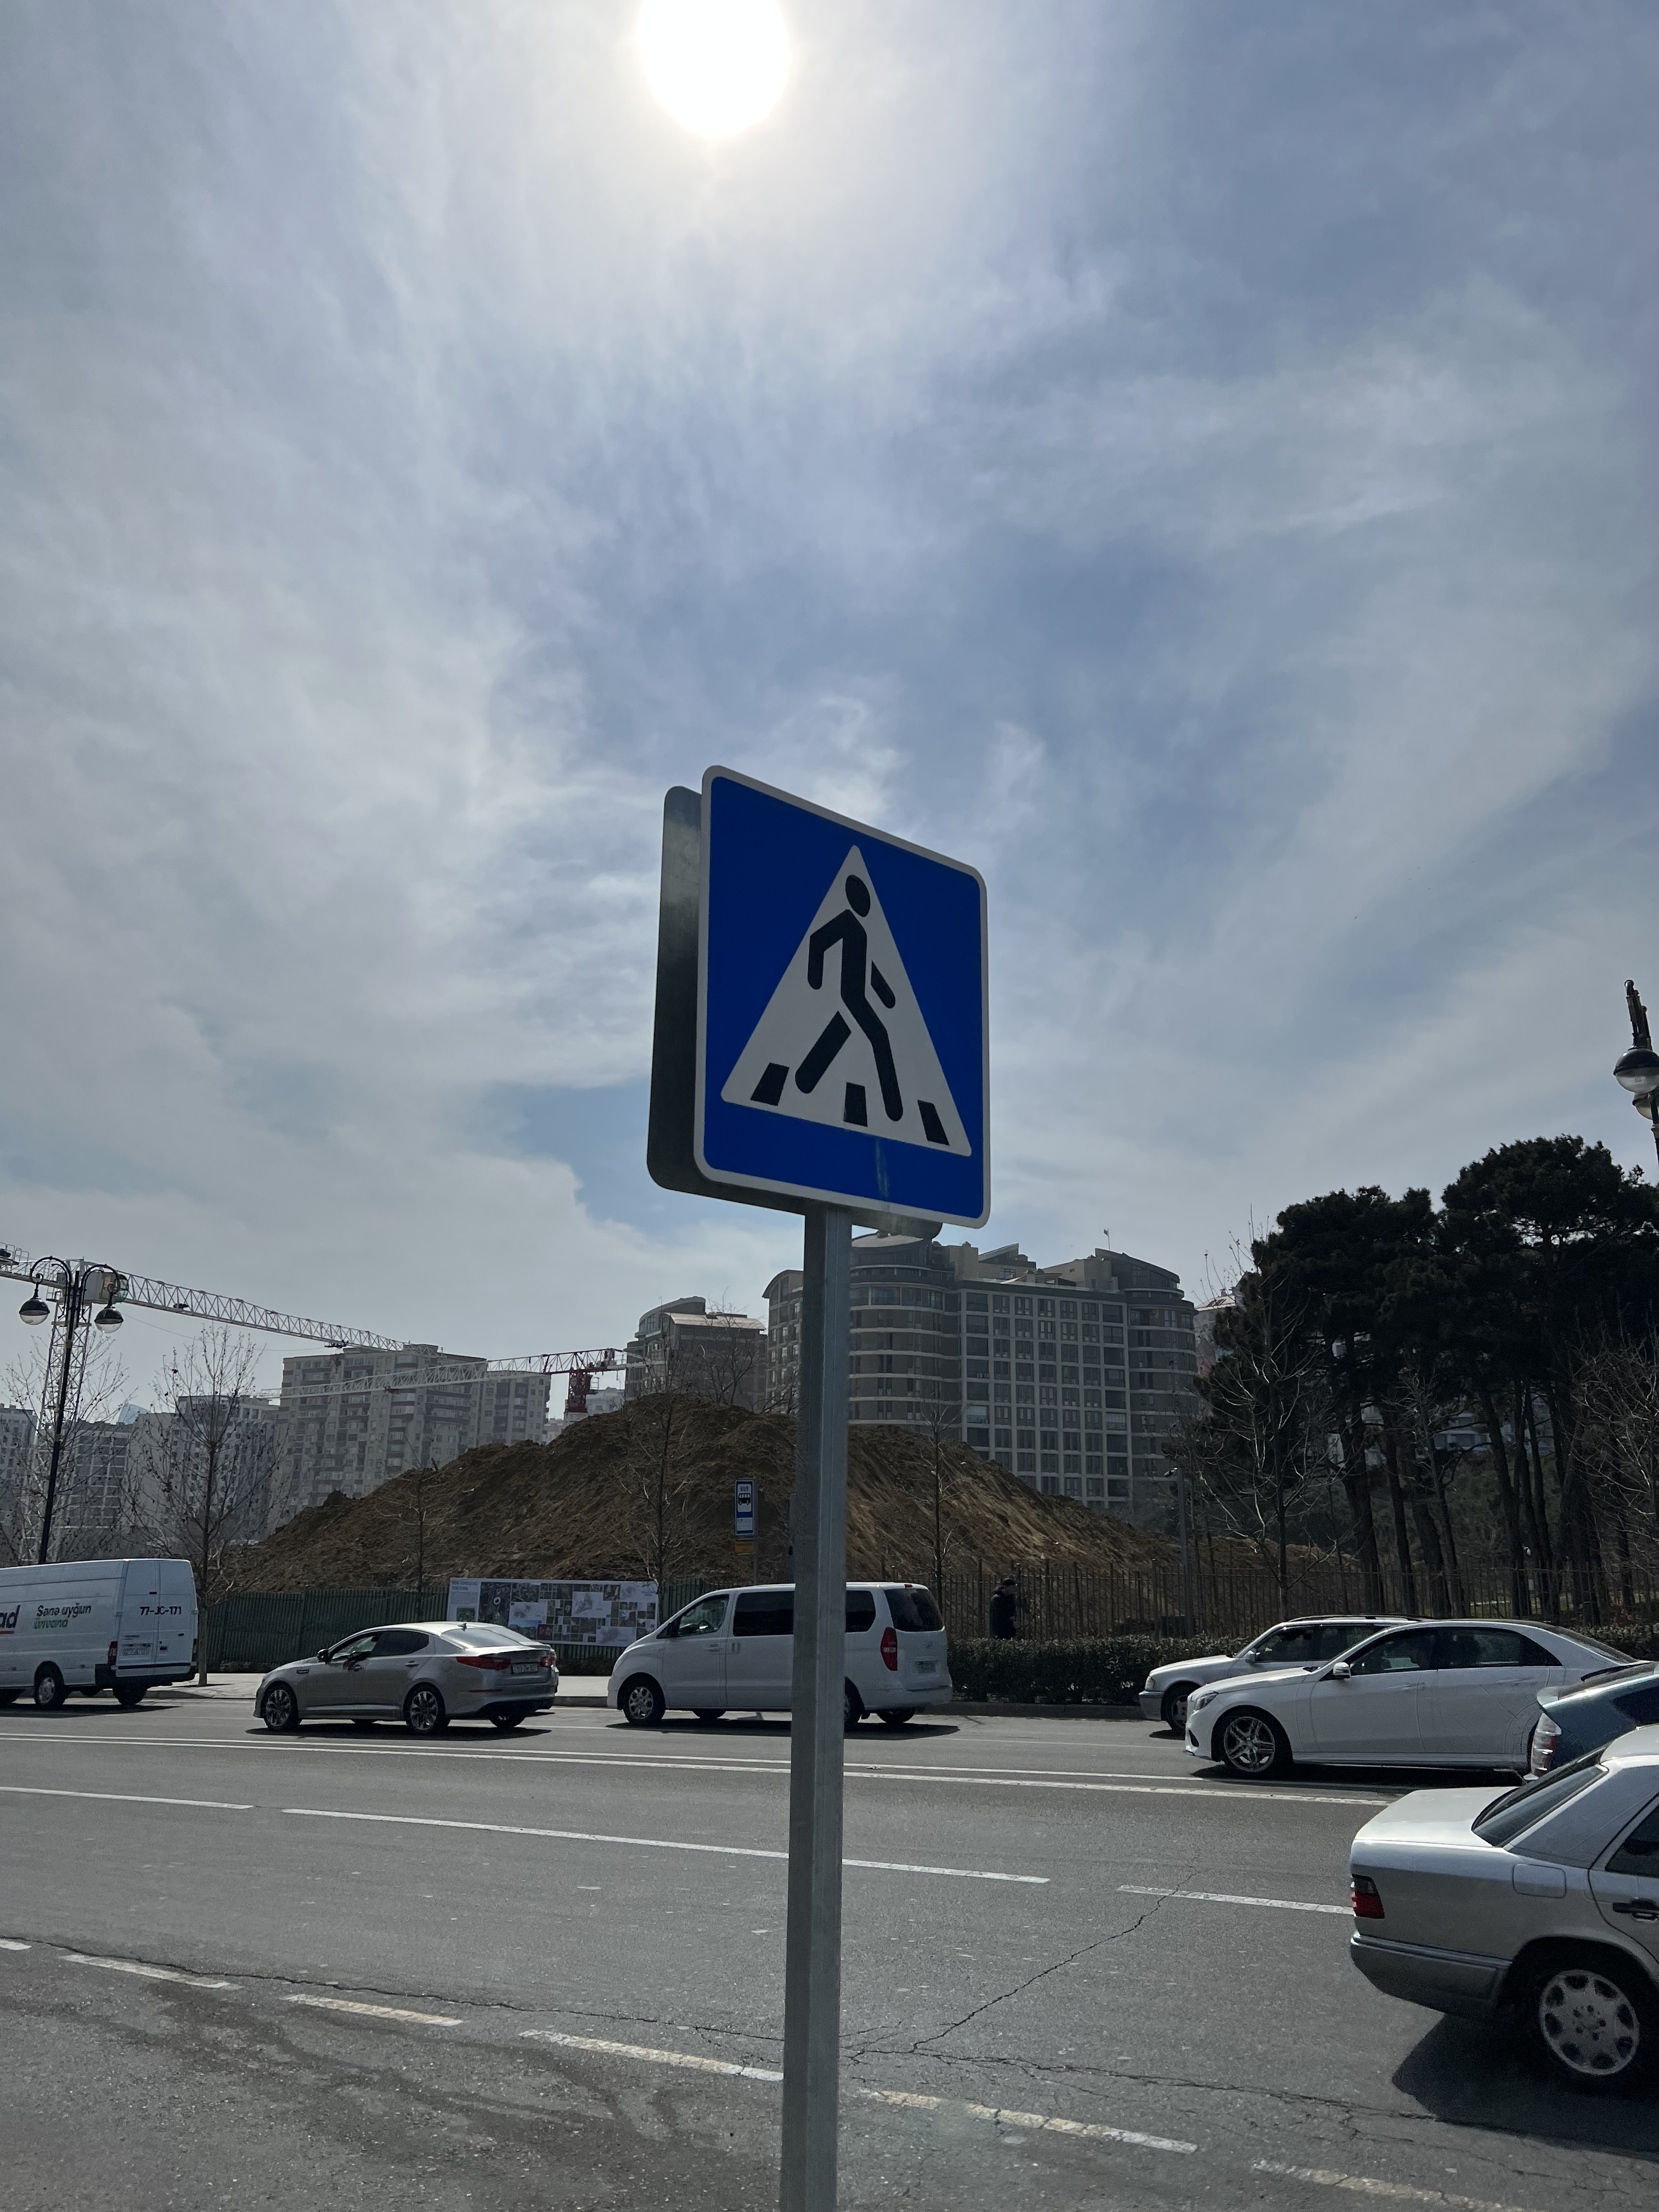Pedestrian Crossing: (701, 763, 992, 1230)
